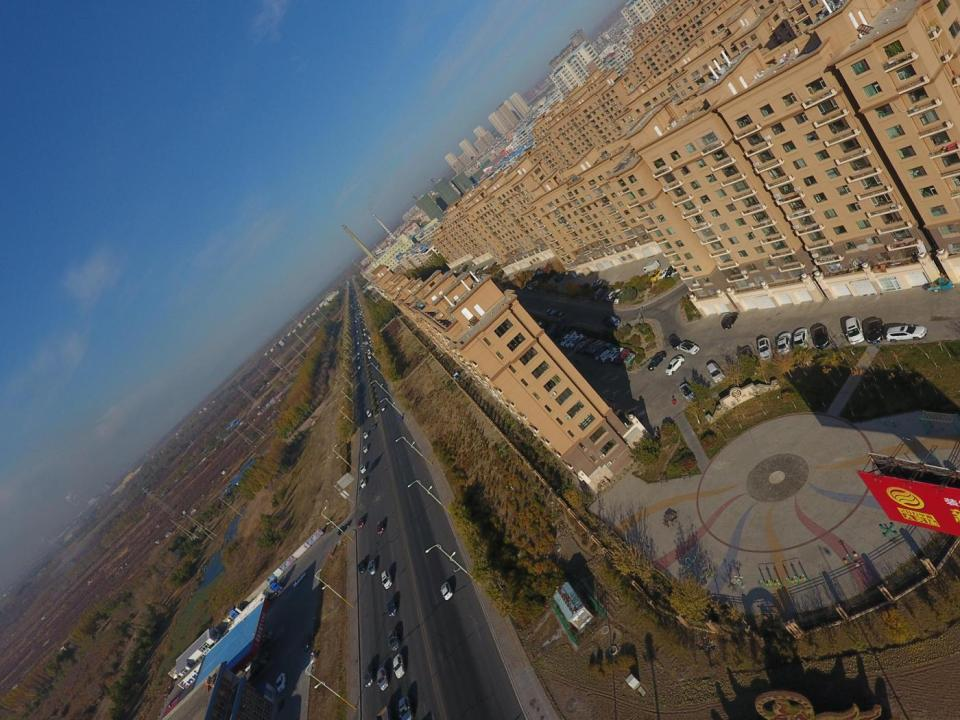bus: (367, 410, 372, 417)
car: (886, 326, 928, 342), (706, 361, 726, 384), (867, 318, 884, 344), (813, 324, 829, 351), (756, 337, 774, 360), (793, 326, 810, 350), (398, 696, 415, 719), (648, 350, 666, 371), (737, 345, 754, 367), (665, 356, 684, 375), (777, 331, 791, 355), (377, 666, 390, 691), (721, 311, 739, 329), (679, 384, 696, 403), (388, 628, 401, 652), (594, 342, 612, 359), (393, 654, 404, 680), (364, 662, 375, 688), (440, 581, 455, 600), (386, 596, 398, 618), (680, 342, 700, 355), (616, 348, 631, 364), (590, 341, 606, 356), (586, 339, 602, 354), (601, 347, 616, 362), (581, 339, 596, 354), (381, 570, 392, 590), (610, 347, 624, 362), (576, 338, 590, 353), (668, 334, 681, 350), (276, 672, 286, 692), (565, 334, 579, 348), (293, 572, 306, 587), (570, 333, 583, 348), (336, 522, 350, 535), (614, 290, 626, 305), (606, 288, 621, 300), (665, 262, 676, 278), (670, 263, 680, 280), (651, 269, 663, 282), (602, 289, 614, 302), (357, 558, 366, 574), (368, 560, 377, 576), (559, 332, 570, 344), (610, 291, 622, 302), (376, 520, 384, 535), (658, 268, 668, 280), (357, 516, 365, 528), (591, 279, 603, 287), (532, 280, 540, 291), (528, 280, 536, 290), (526, 279, 534, 289), (539, 265, 547, 275), (360, 463, 367, 474), (360, 478, 367, 488), (536, 265, 543, 275), (534, 322, 542, 330), (553, 310, 562, 317), (578, 283, 590, 288), (546, 308, 554, 314), (554, 276, 562, 282), (542, 266, 548, 274), (482, 264, 489, 270), (363, 431, 368, 439), (363, 445, 368, 453), (481, 264, 486, 272), (380, 405, 386, 411), (495, 260, 501, 266), (473, 268, 479, 274), (492, 261, 497, 268), (477, 268, 484, 272), (459, 265, 463, 271), (472, 261, 476, 266), (372, 423, 375, 429), (368, 355, 372, 359), (357, 366, 361, 369), (365, 341, 368, 345), (454, 269, 458, 272), (360, 359, 363, 362), (362, 328, 366, 330), (368, 335, 370, 339), (364, 416, 366, 420), (356, 330, 359, 332), (364, 333, 366, 336), (357, 341, 359, 344), (358, 356, 360, 359), (367, 352, 370, 354), (358, 337, 360, 339), (357, 353, 359, 355), (370, 341, 372, 343), (372, 352, 374, 354), (368, 349, 370, 350)
truck: (225, 590, 269, 635), (241, 578, 284, 619), (230, 588, 266, 619), (250, 652, 270, 676), (560, 330, 576, 347), (644, 260, 661, 273), (601, 316, 620, 326)
van: (845, 317, 864, 345), (301, 633, 311, 652), (594, 288, 604, 301)
